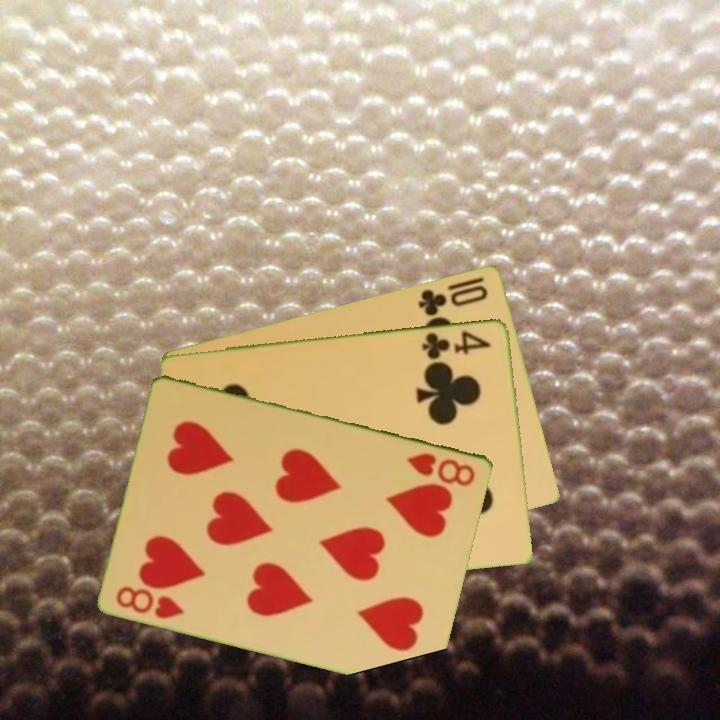10c: (414, 281, 491, 318)
4c: (419, 327, 494, 362)
8h: (403, 449, 479, 489), (113, 582, 188, 622)
